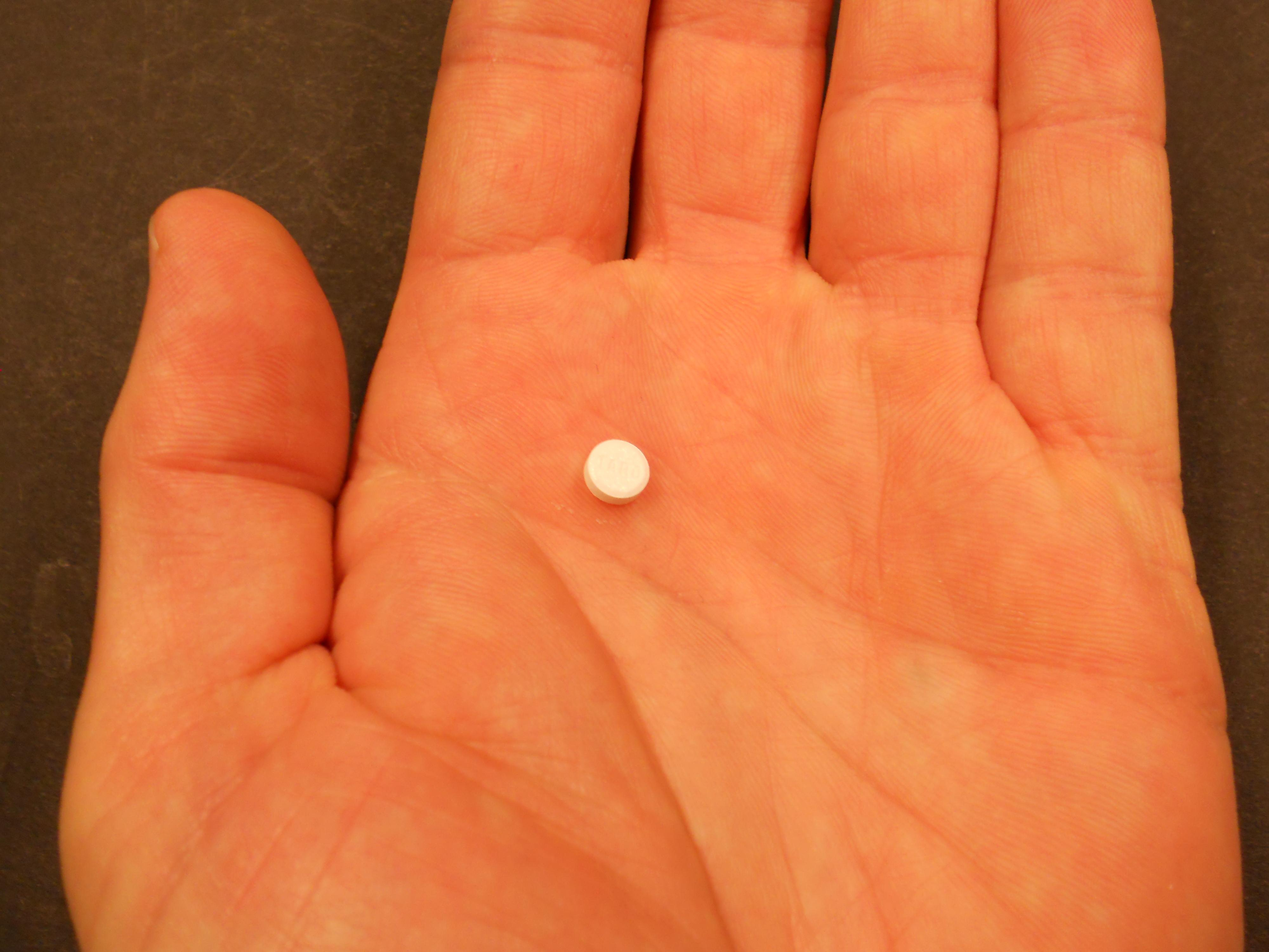Pill: (571, 427, 660, 514)
